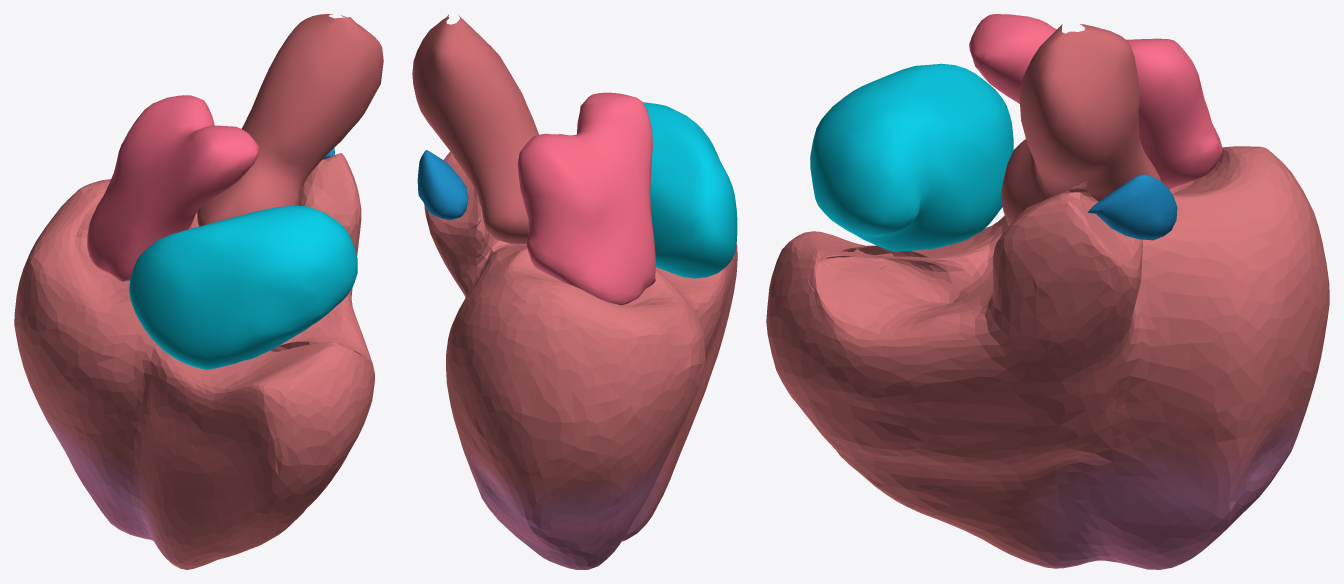
File: frame_44.glb
The picture shows the model from 3 angles, left to right: view 1: azimuth 30°, elevation 25°; view 2: azimuth 150°, elevation 25°; view 3: azimuth 270°, elevation 25°; orthographic projection. The views are drawn at different scales.
Parts seen in each view (by area): view 1: Renderer Node; view 2: Renderer Node; view 3: Renderer Node.
Part boxes in pixels (<box>): Renderer Node: <box>14,14,383,569</box>; Renderer Node: <box>412,14,737,569</box>; Renderer Node: <box>766,14,1329,569</box>.
Bounding box in the file's own units: 102 × 159 × 126.
